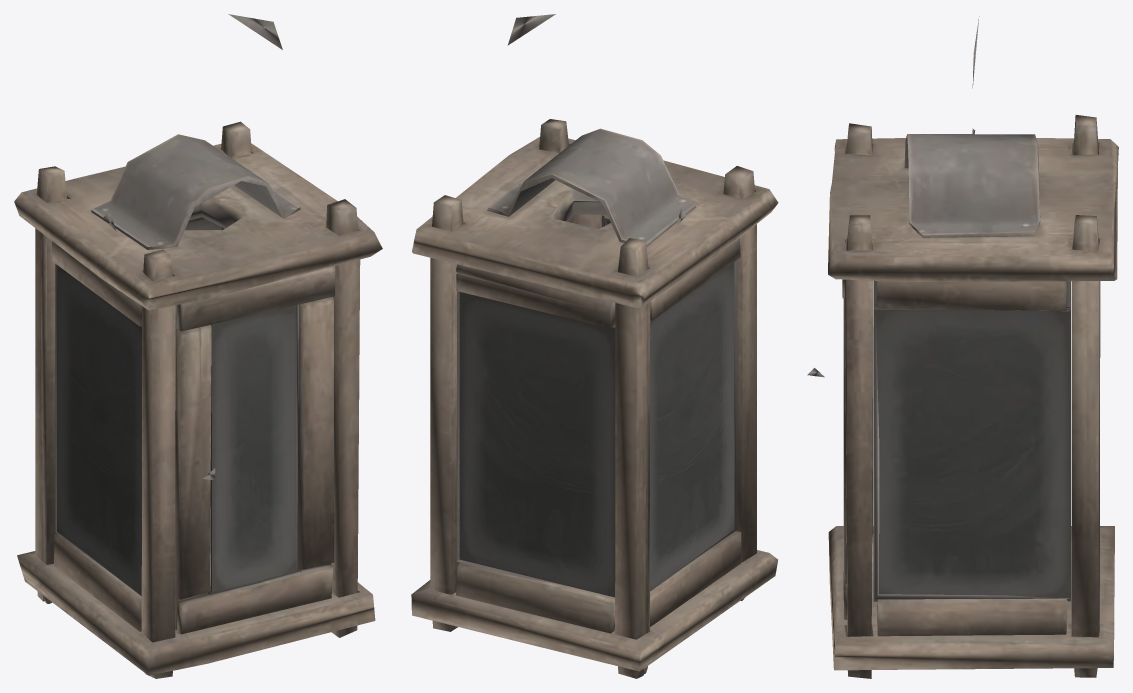
Rendered from wooden_lantern_01.glb.
3 views of the same model, side by side, from view 1: azimuth 30°, elevation 25°; view 2: azimuth 150°, elevation 25°; view 3: azimuth 270°, elevation 25° (orthographic). The views are drawn at different scales.
Visible parts, largest first — view 1: wooden_lantern_01; view 2: wooden_lantern_01; view 3: wooden_lantern_01.
Part boxes in pixels (box(x1,y1,x2,y2)): wooden_lantern_01: box(14, 14, 382, 678); wooden_lantern_01: box(411, 14, 778, 678); wooden_lantern_01: box(807, 16, 1118, 678).
Bounding box in the file's own units: 0.2186 × 0.5203 × 0.2331.
2 materials, 2 textured.
